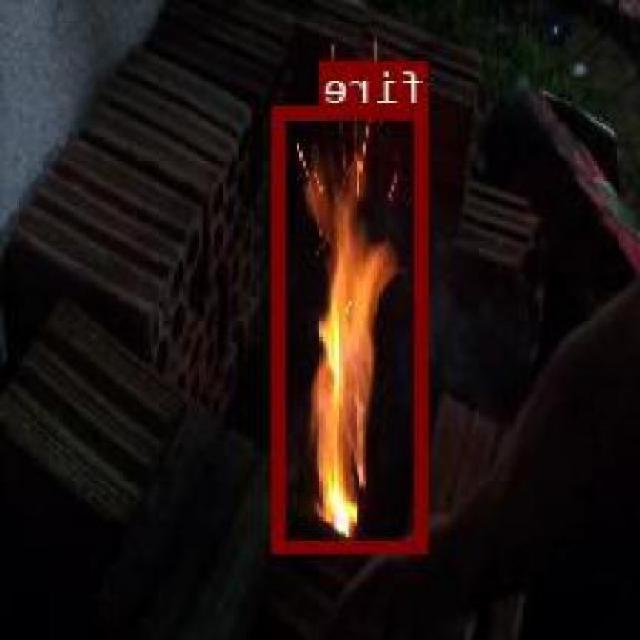fire: (274, 103, 430, 551)
